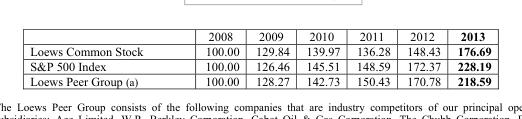table: (29, 29, 490, 87)
table column: (29, 29, 173, 87), (173, 29, 246, 87), (246, 29, 297, 87), (347, 29, 398, 87), (297, 29, 347, 87), (398, 29, 448, 87), (448, 29, 490, 87)
table column header: (29, 29, 490, 43)
table row: (29, 43, 490, 58), (29, 58, 490, 73), (29, 29, 490, 43), (29, 73, 490, 87)
